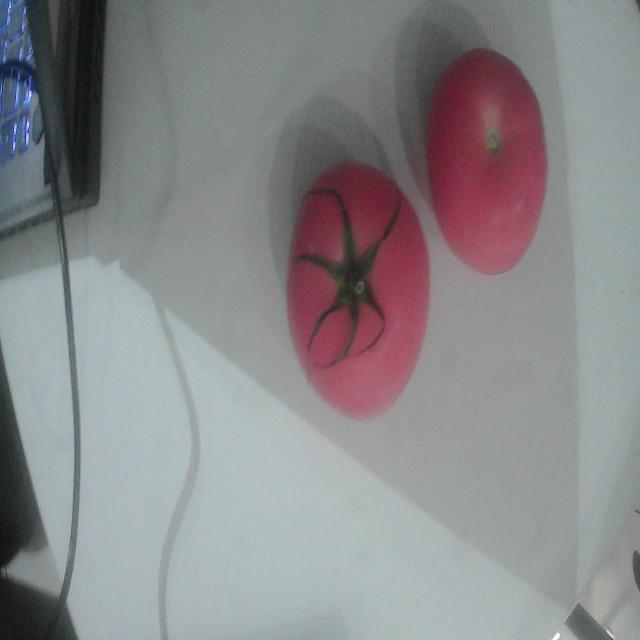Tomato: (288, 163, 430, 419), (426, 49, 548, 275)
